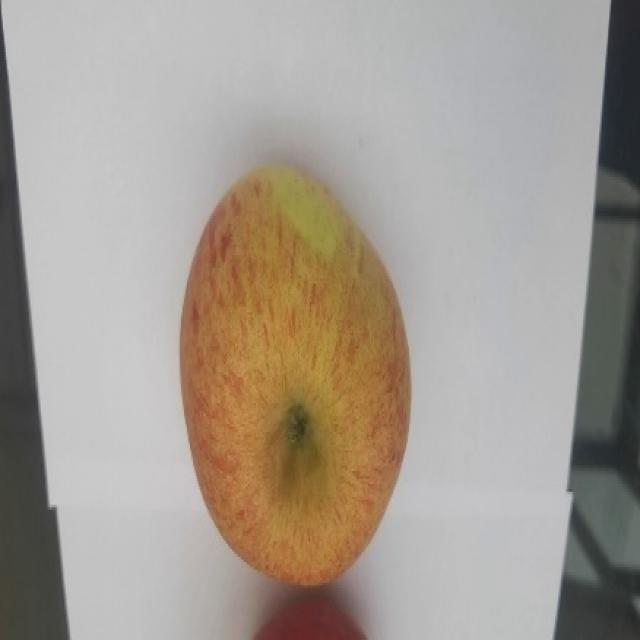Apple: (178, 163, 412, 587)
